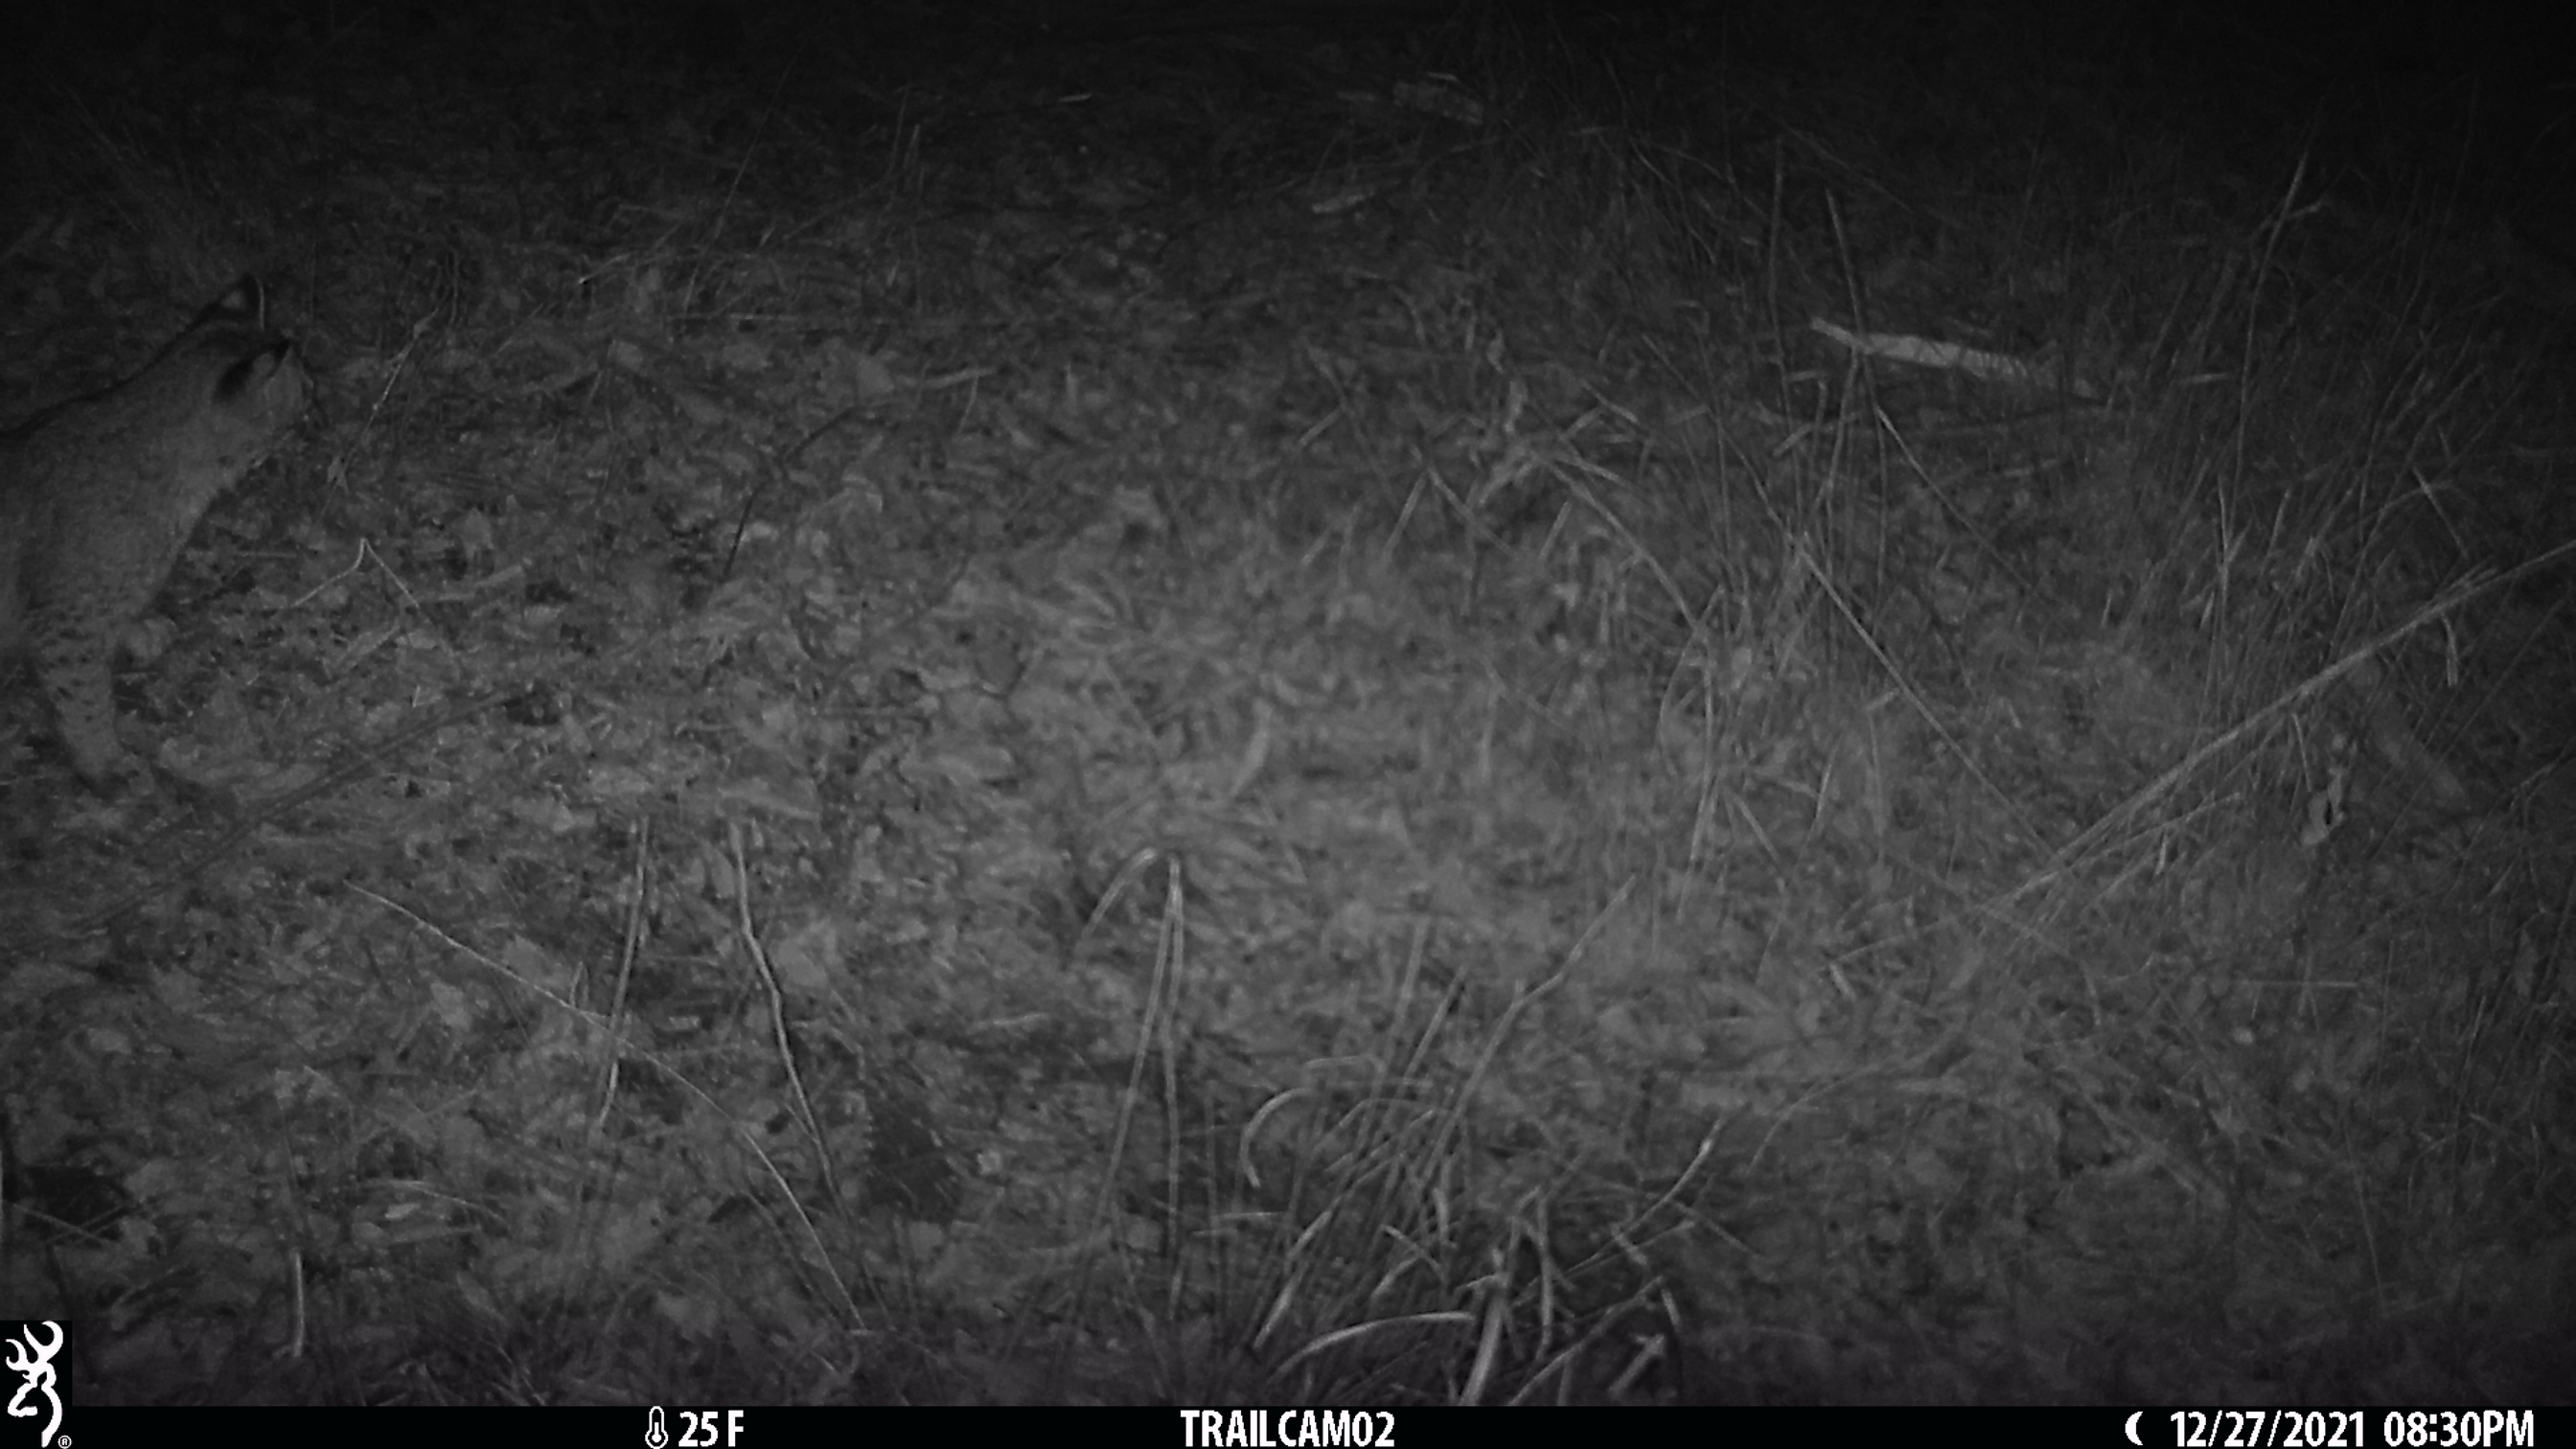Bobcat: (2, 269, 308, 778)
